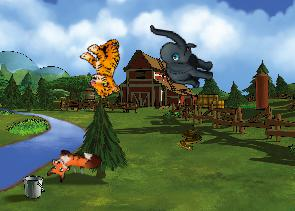elephant: (142, 24, 219, 90)
fox: (45, 145, 102, 188)
tiger: (73, 33, 138, 101)
